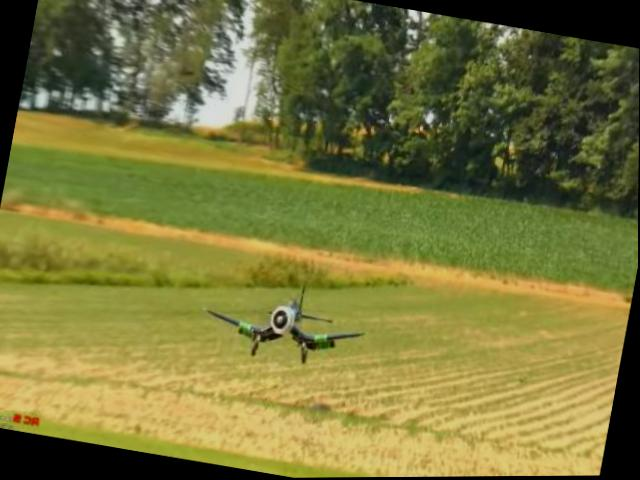uav: (195, 261, 381, 381)
